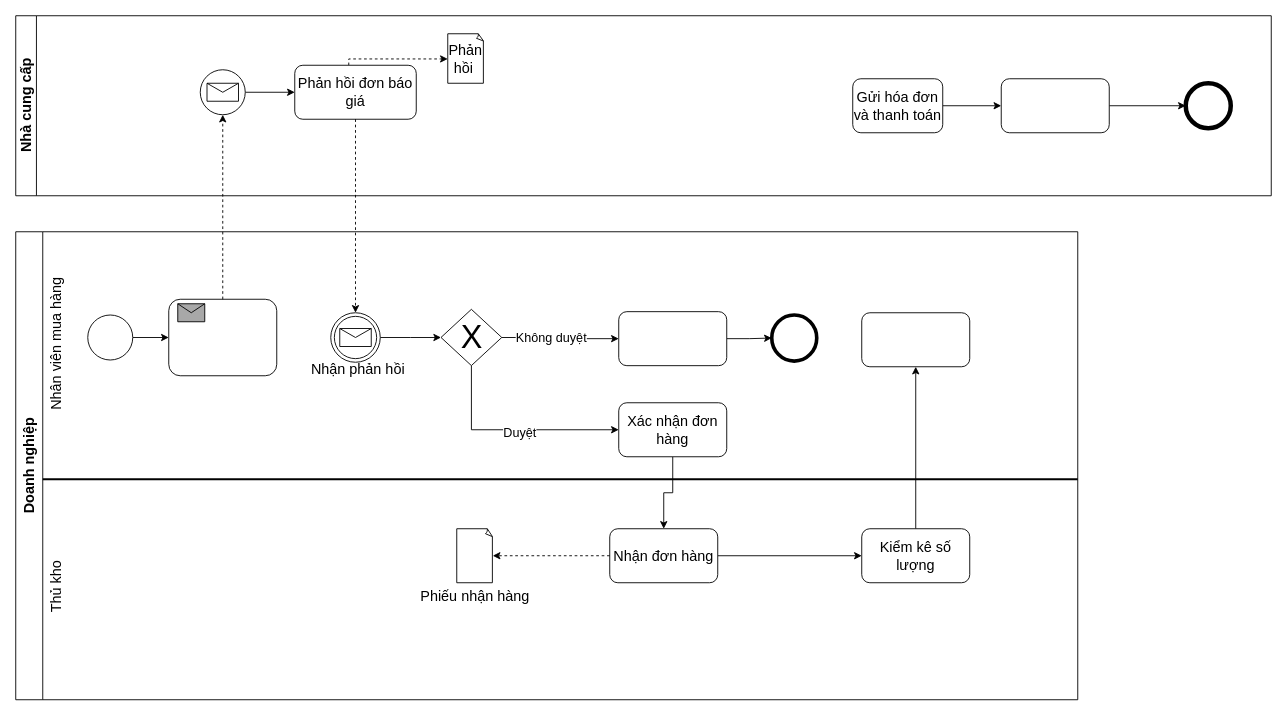
This 1287x716 diagram has some shape labels left out. Here are the shapes that lost their labels. From the top down, the box of each, then its label:
(1000, 78, 1109, 133): Ghi nhận lịch sử thanh toán
(168, 298, 277, 376): Gửi đơn báo giá
(618, 311, 727, 366): Hủy đơn hàng
(861, 312, 970, 367): Tạo hóa đơn
